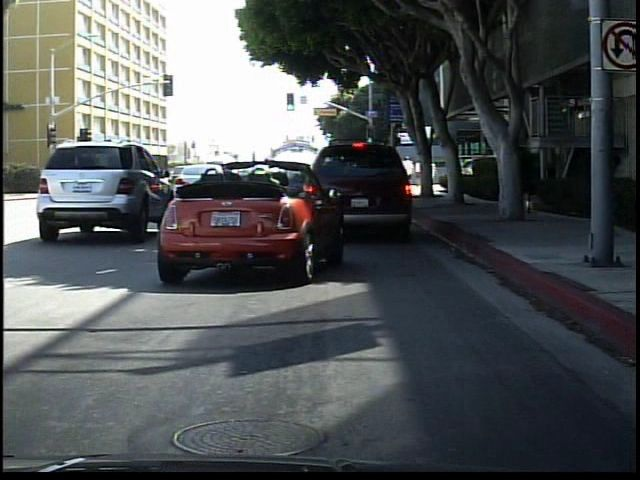person: (579, 132, 623, 240), (526, 141, 529, 217)
